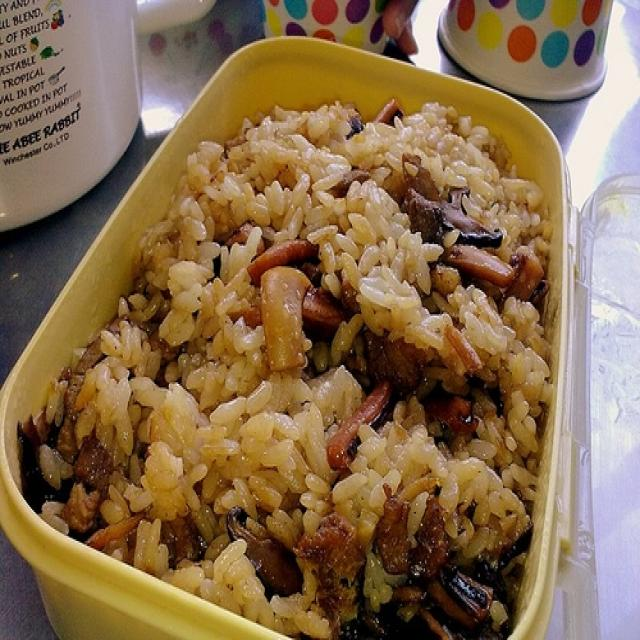米饭主食: (41, 50, 576, 621)
